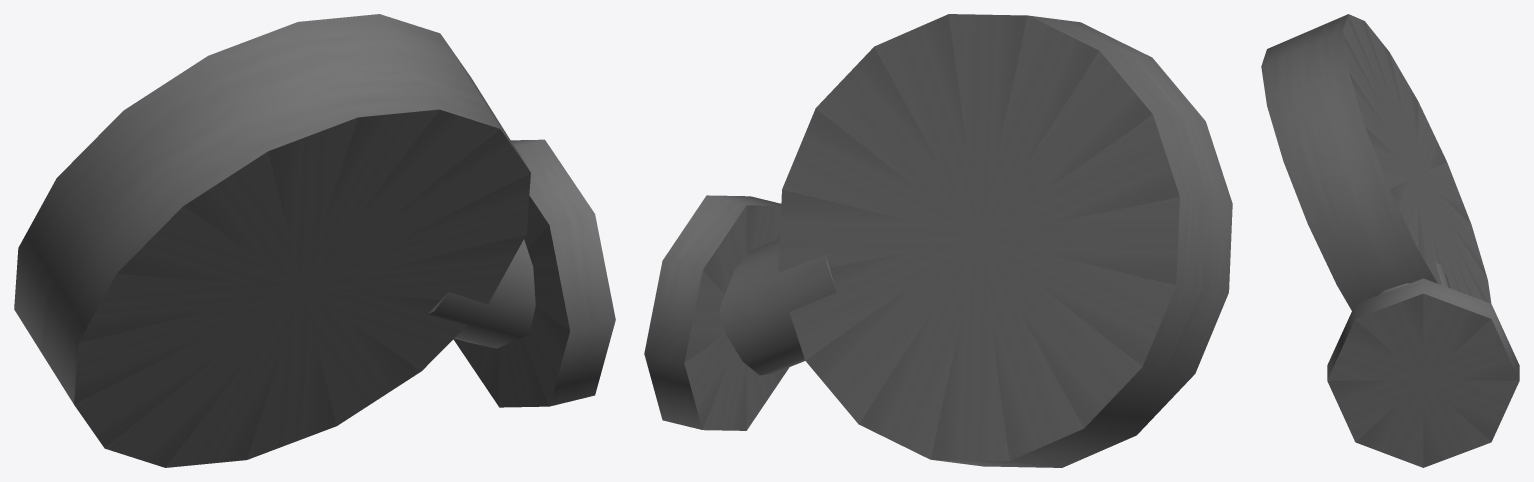
File: mastarmcurve_8x2_c0_east.obj
3 views of the same model, side by side, from view 1: azimuth 30°, elevation 25°; view 2: azimuth 150°, elevation 25°; view 3: azimuth 270°, elevation 25° (orthographic). The views are drawn at different scales.
Visible parts, largest first — view 1: mastarm_8x2_c0_east; view 2: mastarm_8x2_c0_east; view 3: mastarm_8x2_c0_east.
Boxes of the visible parts, x1,y1,x2,y2 form: mastarm_8x2_c0_east: [14, 14, 615, 467]; mastarm_8x2_c0_east: [644, 14, 1232, 467]; mastarm_8x2_c0_east: [1261, 14, 1519, 467].
Size of the model in its own units: 0.865 by 0.7676 by 0.5369.
